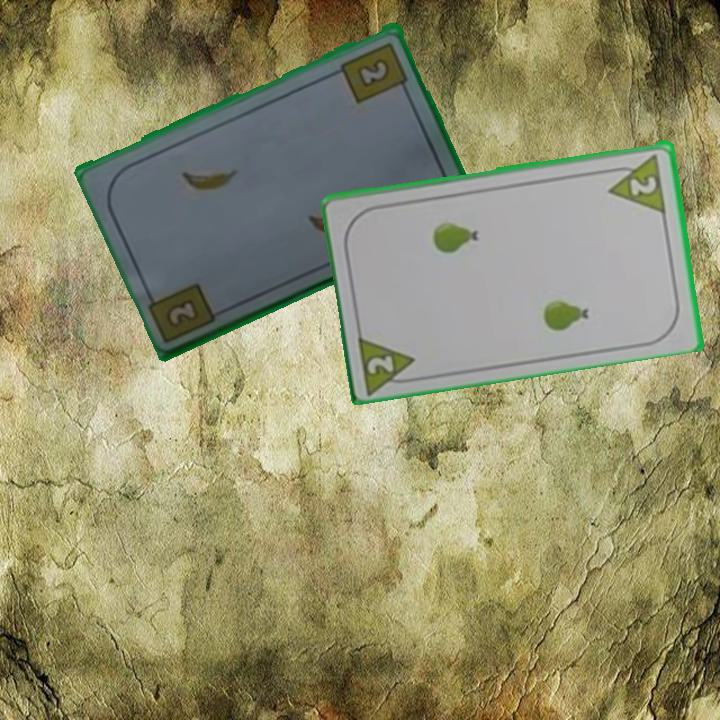2b: (337, 37, 411, 106), (165, 294, 202, 327)
2p: (603, 149, 669, 215), (363, 351, 398, 376)
